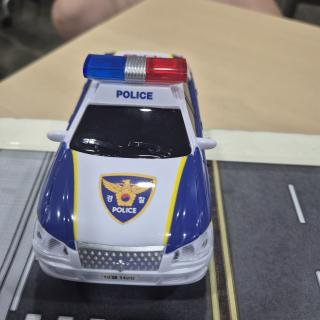Police_car: (33, 54, 216, 285)
